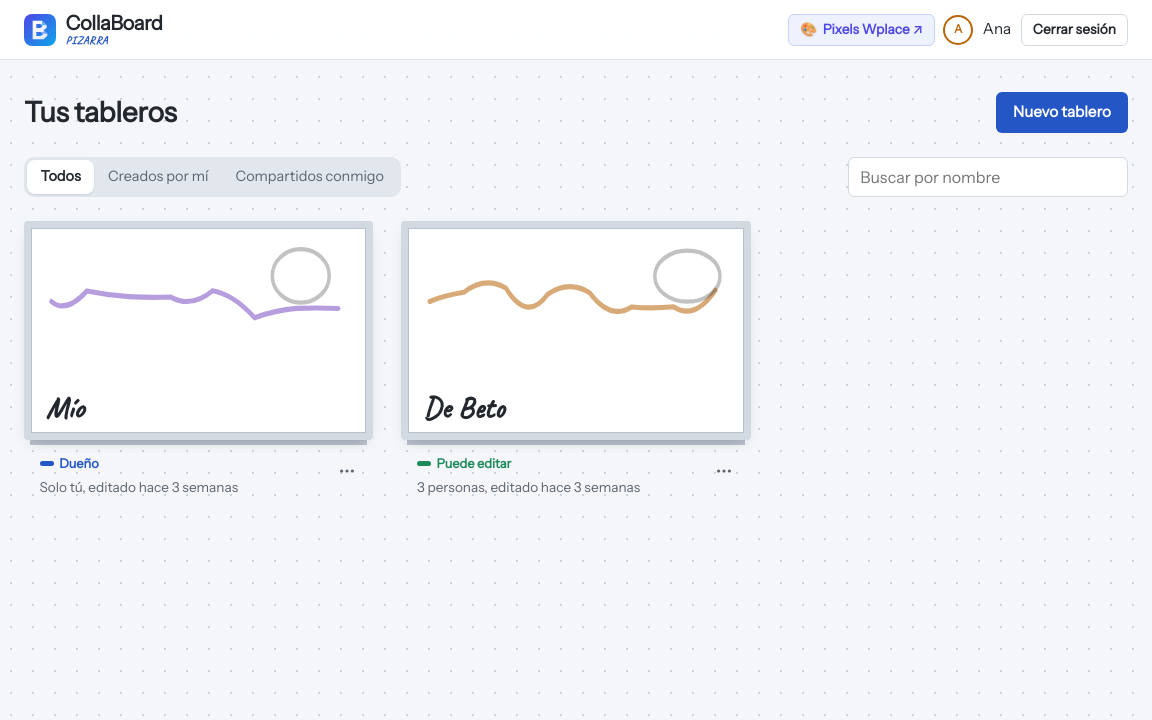
it: Dashboard › lista los tableros y filtra los compartidos
This screenshot has width=1152, height=720.
Expected: the text "Mío" is shown, [45, 389, 84, 427]
Expected: the text "De Beto" is shown, [423, 389, 504, 427]
Click the tab "Compartidos conmigo": (310,177) [222, 160, 398, 194]
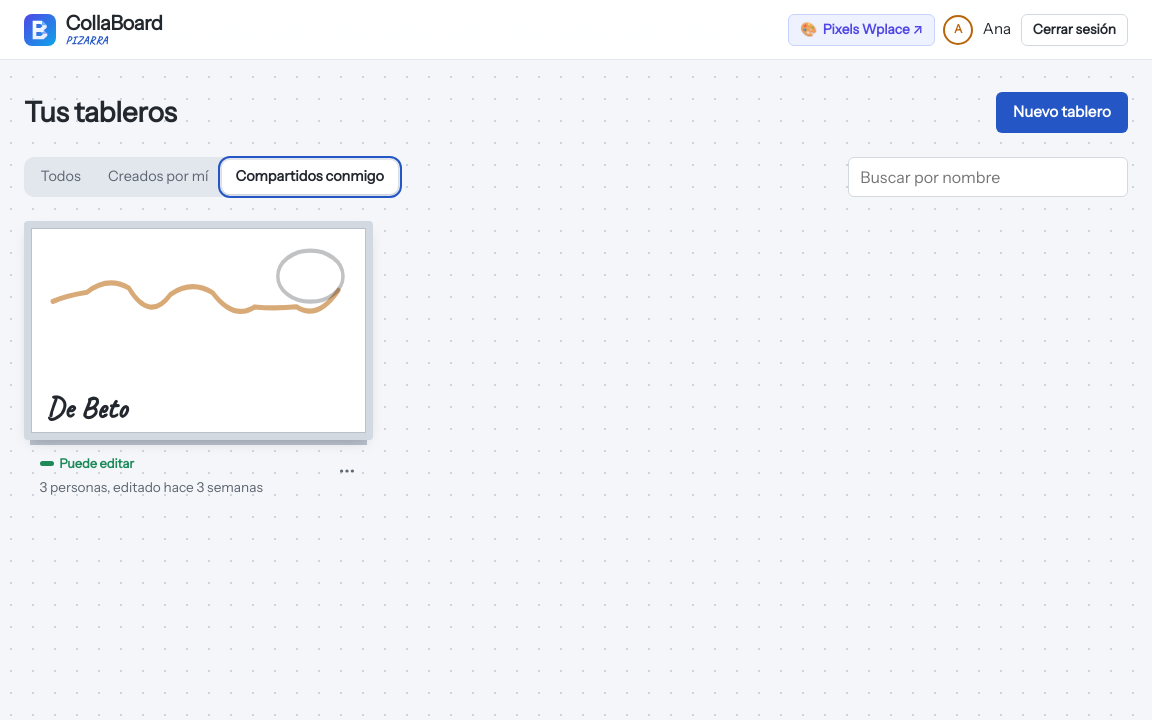
Expected: the text "De Beto" is shown, [45, 389, 127, 427]
Expected: the link "Mío" is gone
